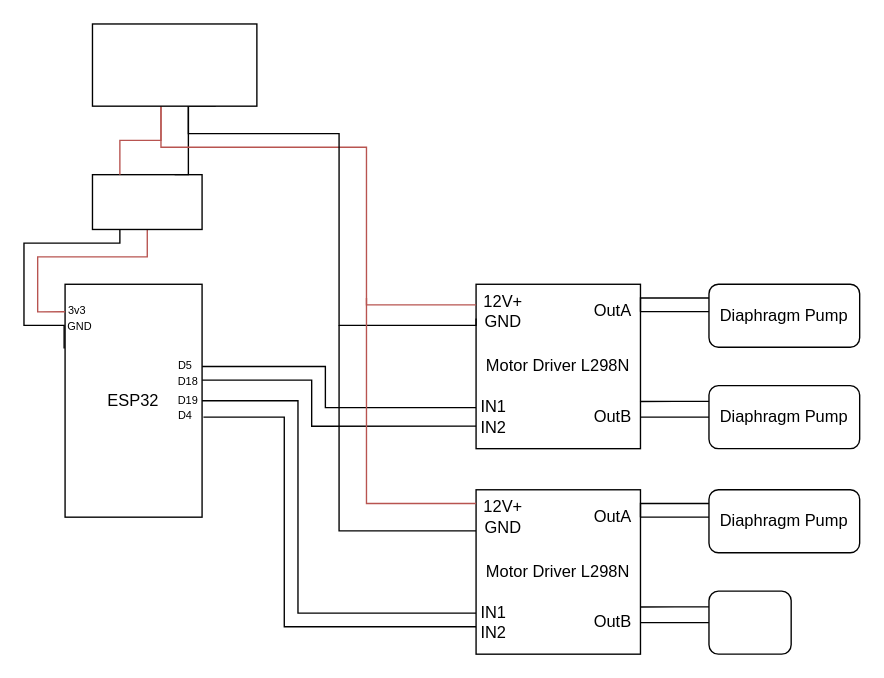
Some shapes in this 884 by 678 pixel diagram are drawn without their labels. The shapes that lost their labels are listed below. From the top down, each one's centre as x and y in pixels, then its label:
point 174,64: 12v Power supply + -
point 146,201: 3v3 Regulator
point 749,622: LED
